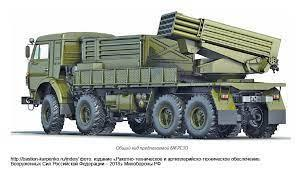rszo: (20, 8, 288, 139)
